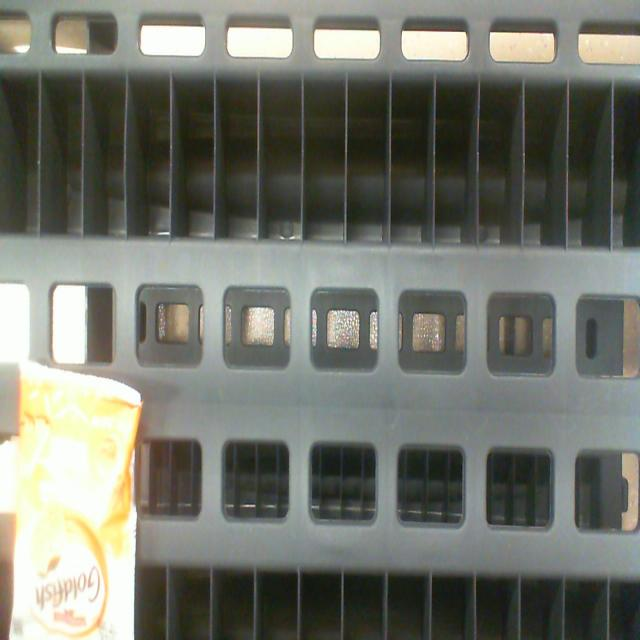snack: (9, 361, 142, 640)
